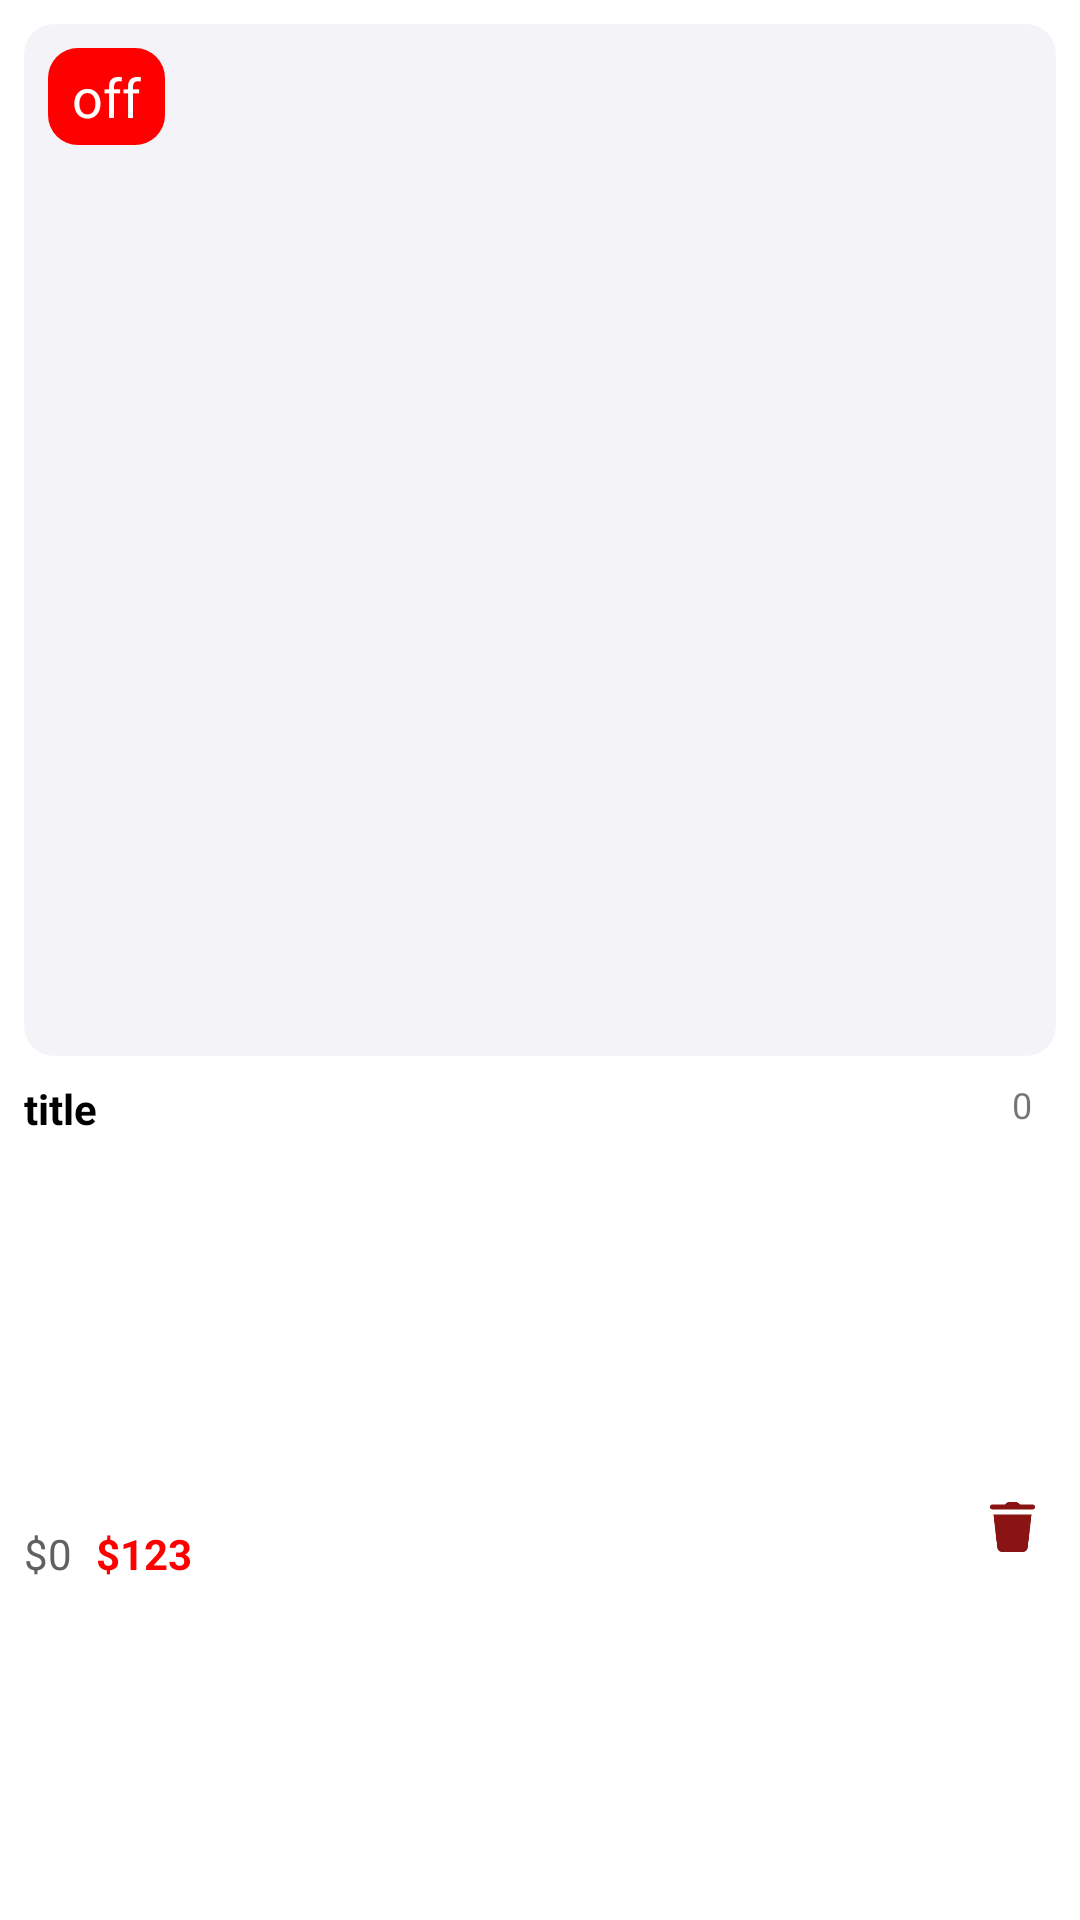

Icon click points for this 1080×1920 phone screenshot, format (x,y):
delete: (1012,1527)
